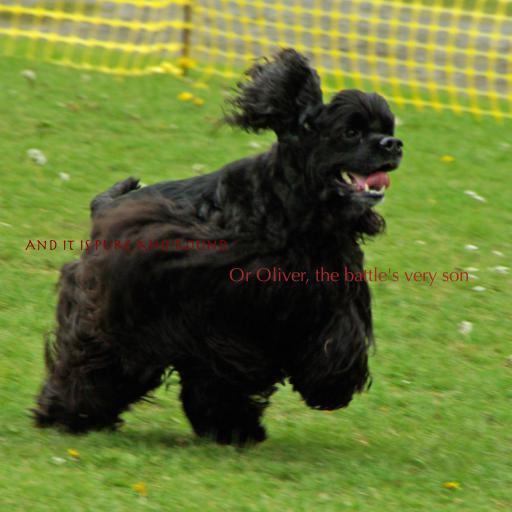Herculanum: (24, 239, 228, 251)
Optima: (229, 267, 469, 287)
